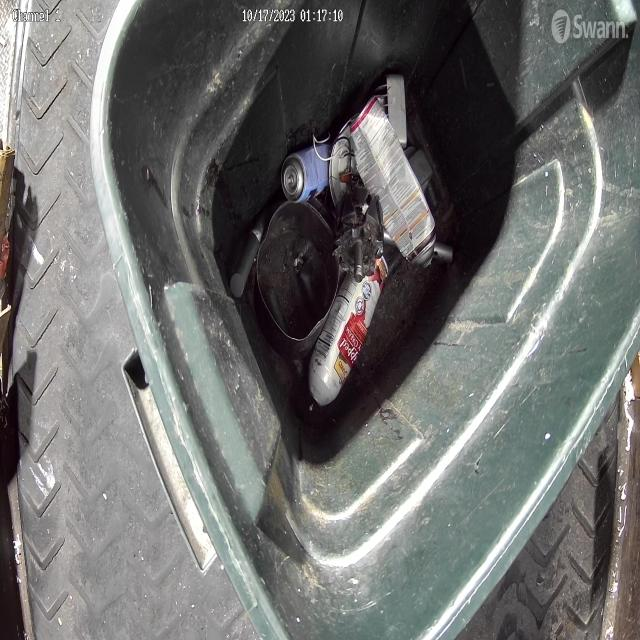can: (350, 95, 437, 268), (282, 140, 332, 204)
